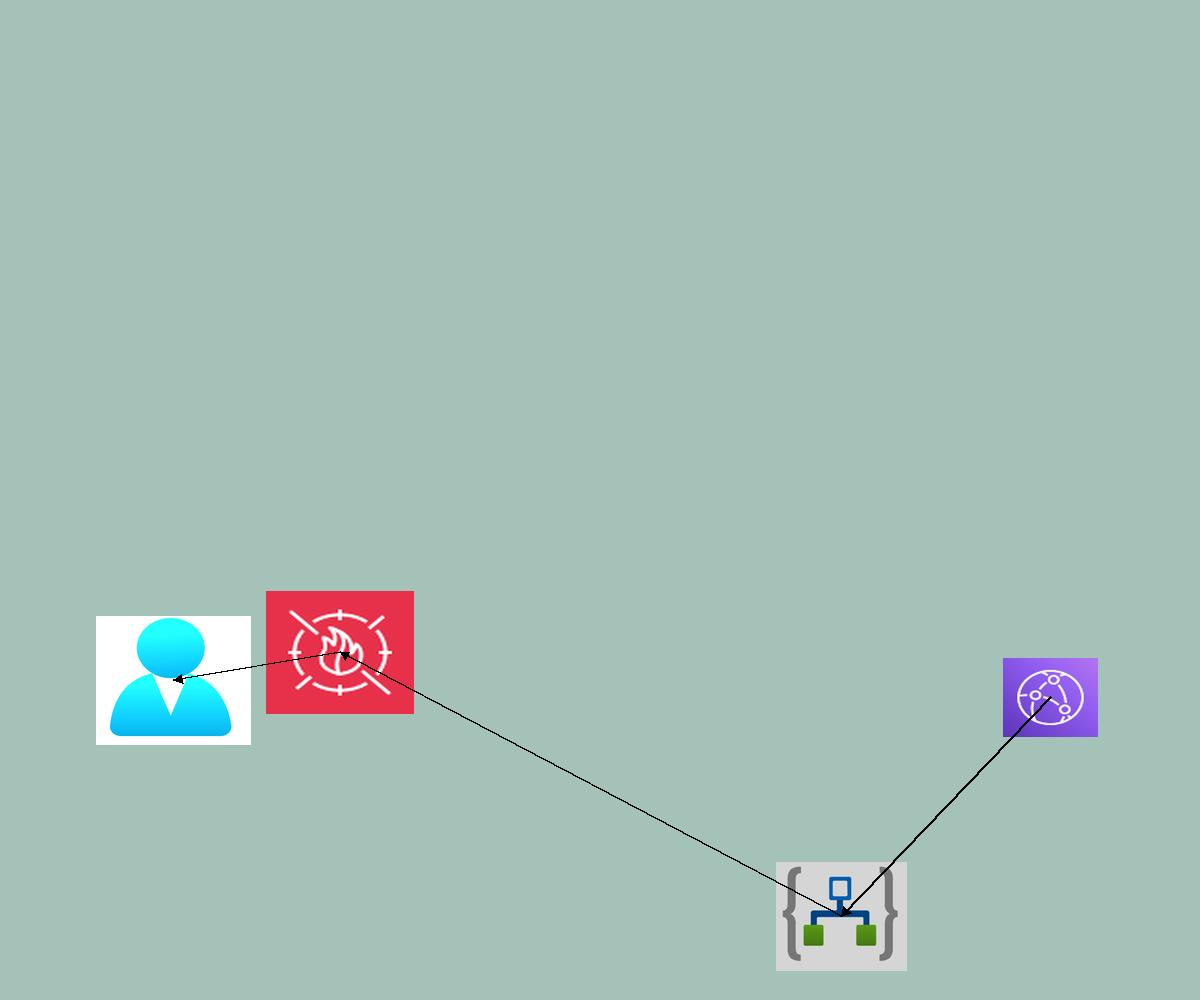AWS-CloudFront: (1003, 658, 1098, 737)
AWS-WAF: (266, 591, 414, 714)
Azure_integration-204-Logic-Apps: (776, 862, 907, 971)
Azure_users: (96, 616, 251, 745)
